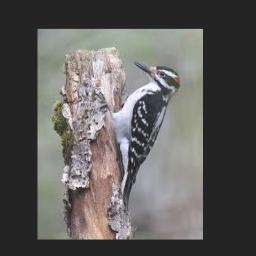Woodpecker: (111, 61, 180, 209)
